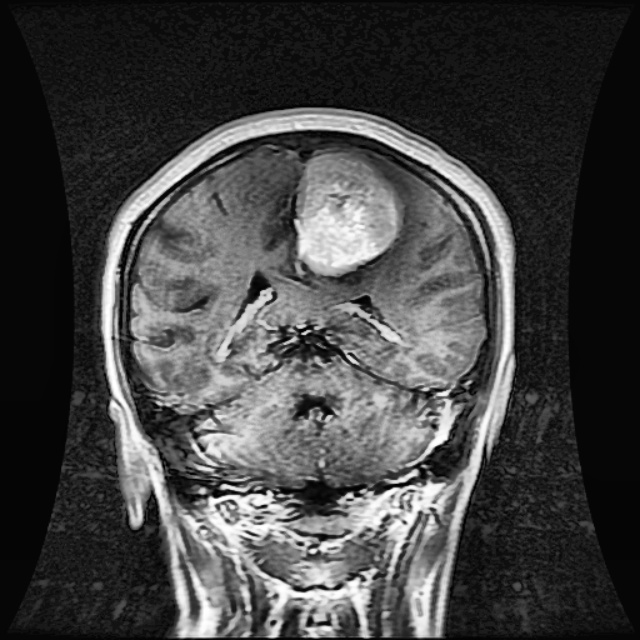Glioma: (295, 150, 400, 277)
